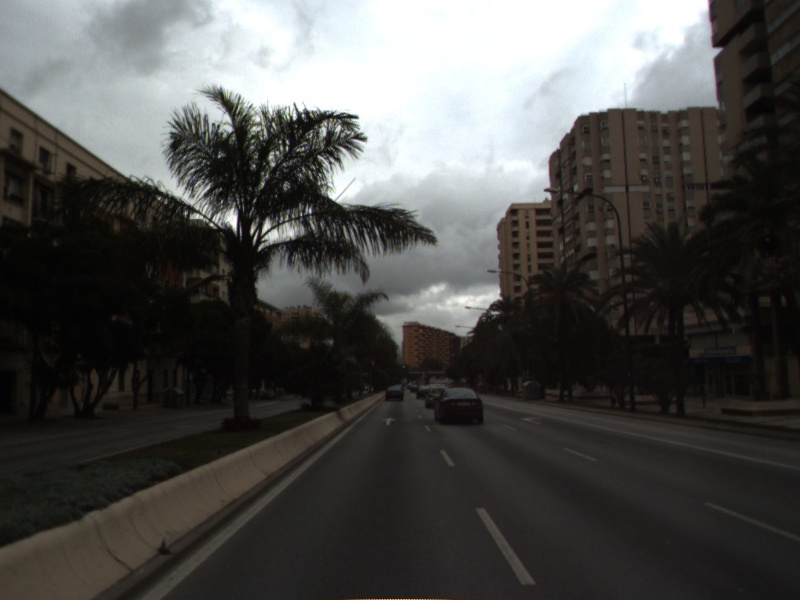RIGHT: (518, 414, 545, 426)
STRAIGHT: (380, 415, 399, 428)
